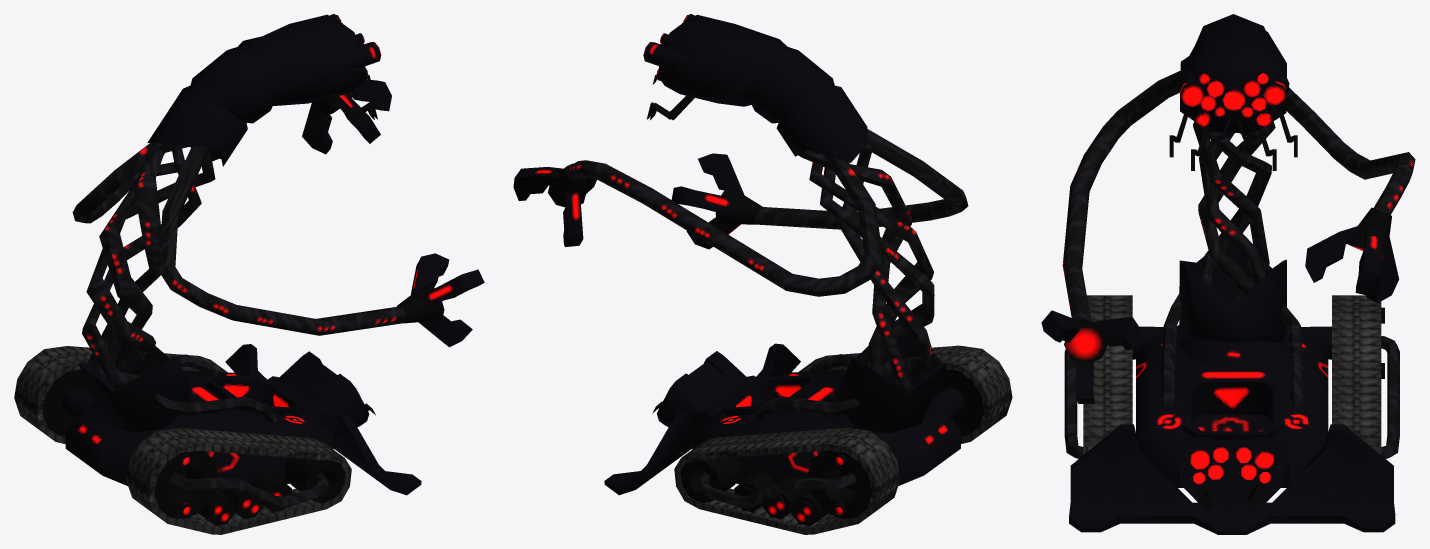
The model's file is squid1.glb.
3 renders of one model, left to right at view 1: azimuth 30°, elevation 25°; view 2: azimuth 150°, elevation 25°; view 3: azimuth 270°, elevation 25°, orthographic. The views are drawn at different scales.
Parts seen in each view (by area): view 1: Kalmar; view 2: Kalmar; view 3: Kalmar.
Part boxes in pixels (x1,y1,x2,y2): Kalmar: (14, 14, 484, 534); Kalmar: (513, 14, 1012, 534); Kalmar: (1041, 14, 1415, 534).
Size of what is drawn, in the model's own units: 7.06 by 7.66 by 5.59.
Materials: 1 (1 with a texture image).
